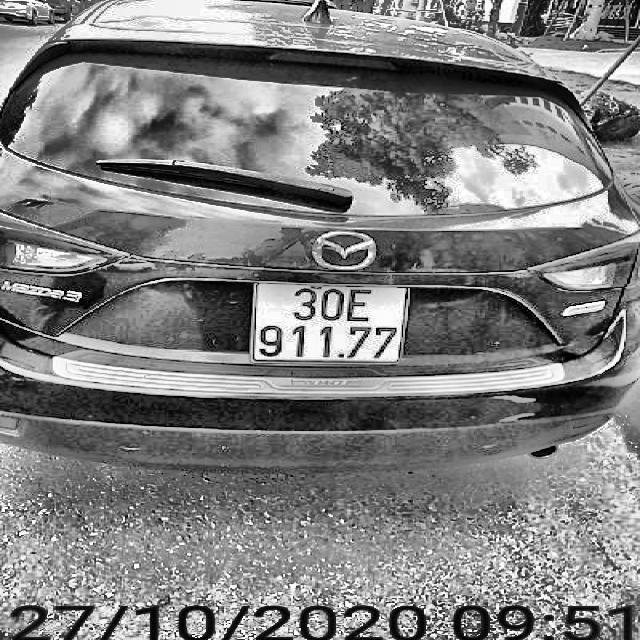plate: (247, 272, 412, 371)
